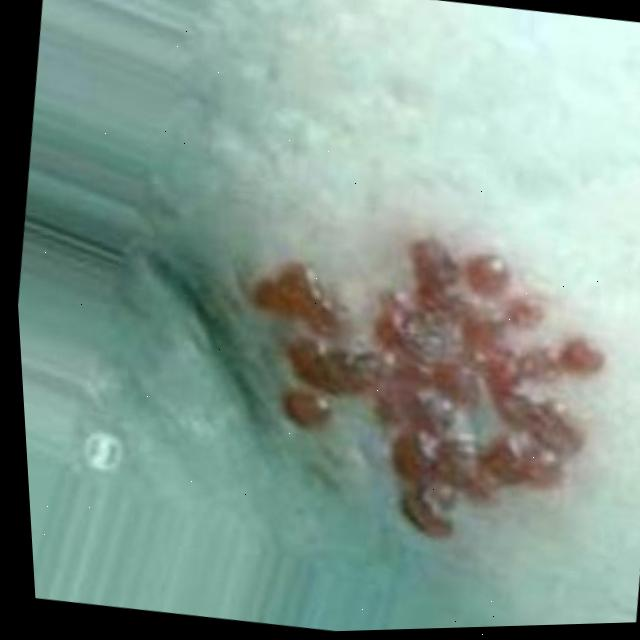Shingles: (216, 206, 634, 569)
